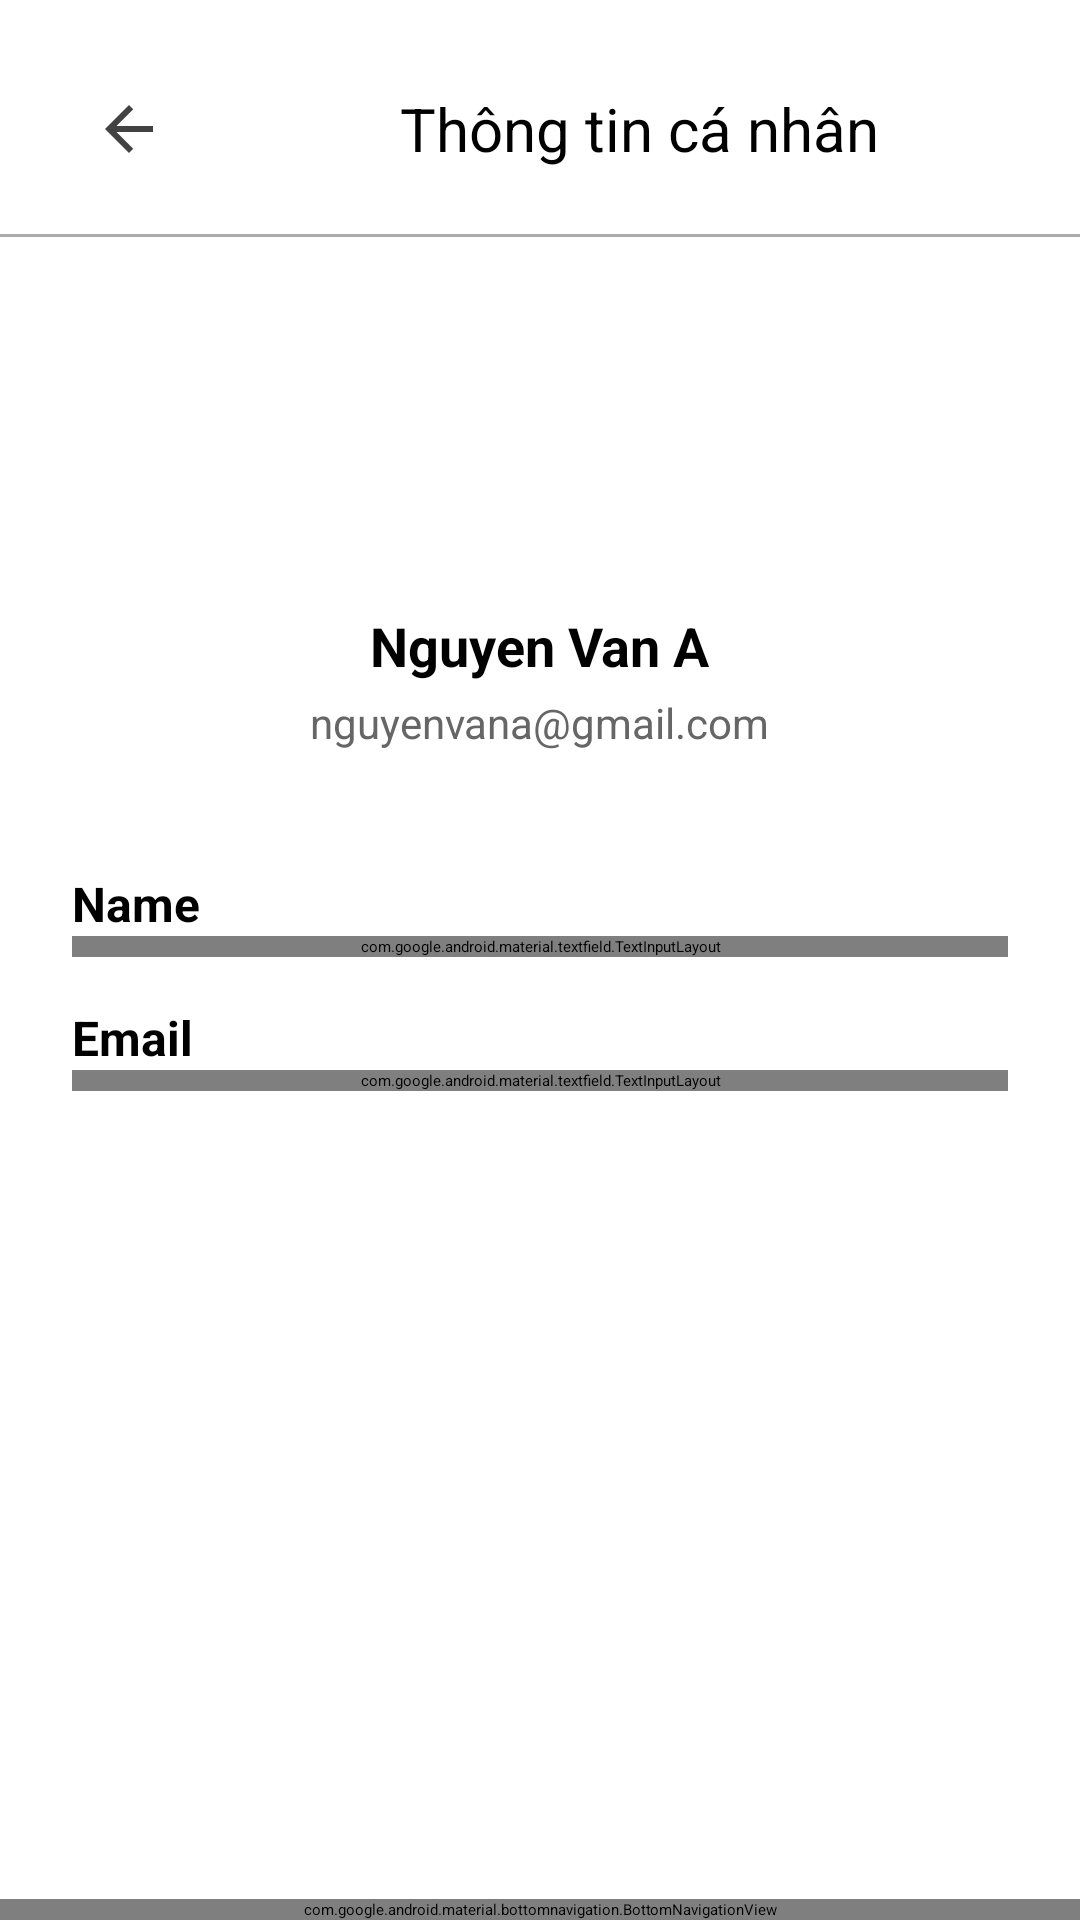

Icons on this 1080x1920 Android screen, each with its box as (x1, y1, x2, y2):
back: (105, 105, 153, 153)
